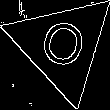O_S: (35, 14, 90, 76)
